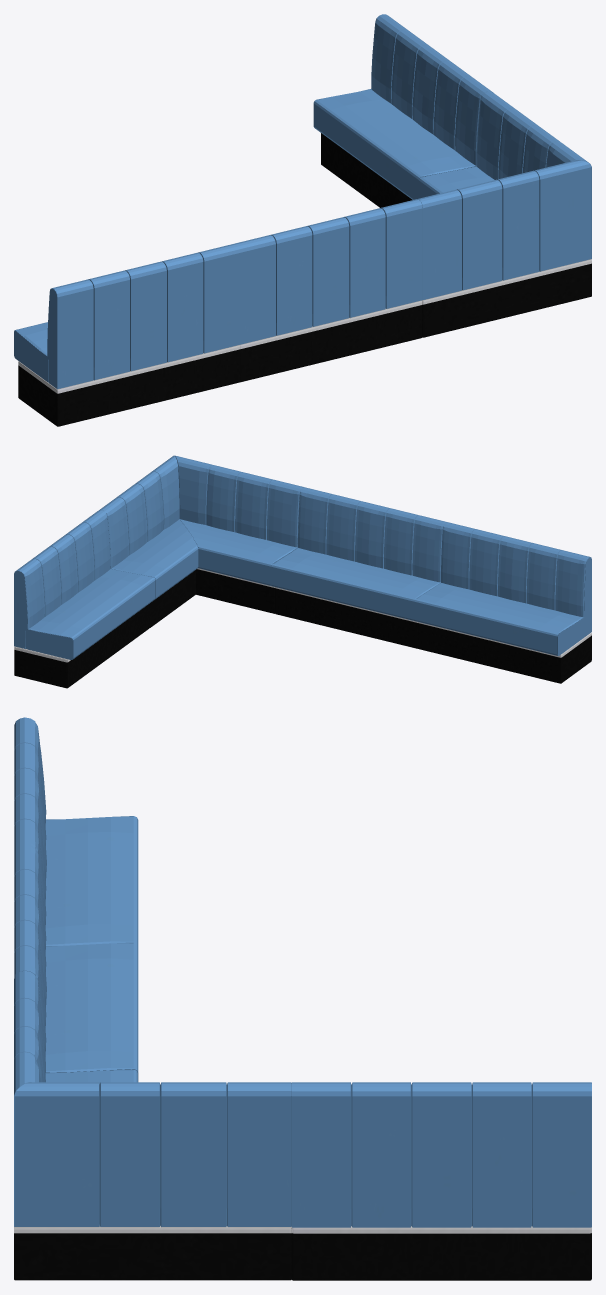
Rendered from sofa.obj.
The picture shows the model from 3 angles, top to bottom: view 1: azimuth 30°, elevation 25°; view 2: azimuth 150°, elevation 25°; view 3: azimuth 270°, elevation 25°; orthographic projection. The views are drawn at different scales.
Parts seen in each view (by area): view 1: sofa_Plane_013, sofa_pasted__Plane_012group2, sofa_Plane_012, sofa_pasted__Plane_012group; view 2: sofa_Plane_013, sofa_pasted__Plane_012group2, sofa_Plane_012, sofa_pasted__Plane_012group; view 3: sofa_pasted__Plane_012group, sofa_Plane_013, sofa_Plane_012, sofa_pasted__Plane_012group2.
Boxes of the visible parts, left/top/right/bottom form: sofa_Plane_013: left=417, top=91, right=591, bottom=337; sofa_pasted__Plane_012group2: left=14, top=243, right=240, bottom=426; sofa_Plane_012: left=235, top=199, right=422, bottom=382; sofa_pasted__Plane_012group: left=313, top=14, right=492, bottom=207; sofa_Plane_013: left=99, top=455, right=303, bottom=627; sofa_pasted__Plane_012group2: left=414, top=522, right=591, bottom=683; sofa_Plane_012: left=271, top=487, right=446, bottom=648; sofa_pasted__Plane_012group: left=14, top=510, right=155, bottom=688; sofa_pasted__Plane_012group: left=291, top=1082, right=591, bottom=1280; sofa_Plane_013: left=14, top=971, right=291, bottom=1280; sofa_Plane_012: left=14, top=844, right=138, bottom=1081; sofa_pasted__Plane_012group2: left=14, top=717, right=138, bottom=945.
Size of the model in its own units: 6.28 by 1.52 by 4.14.
